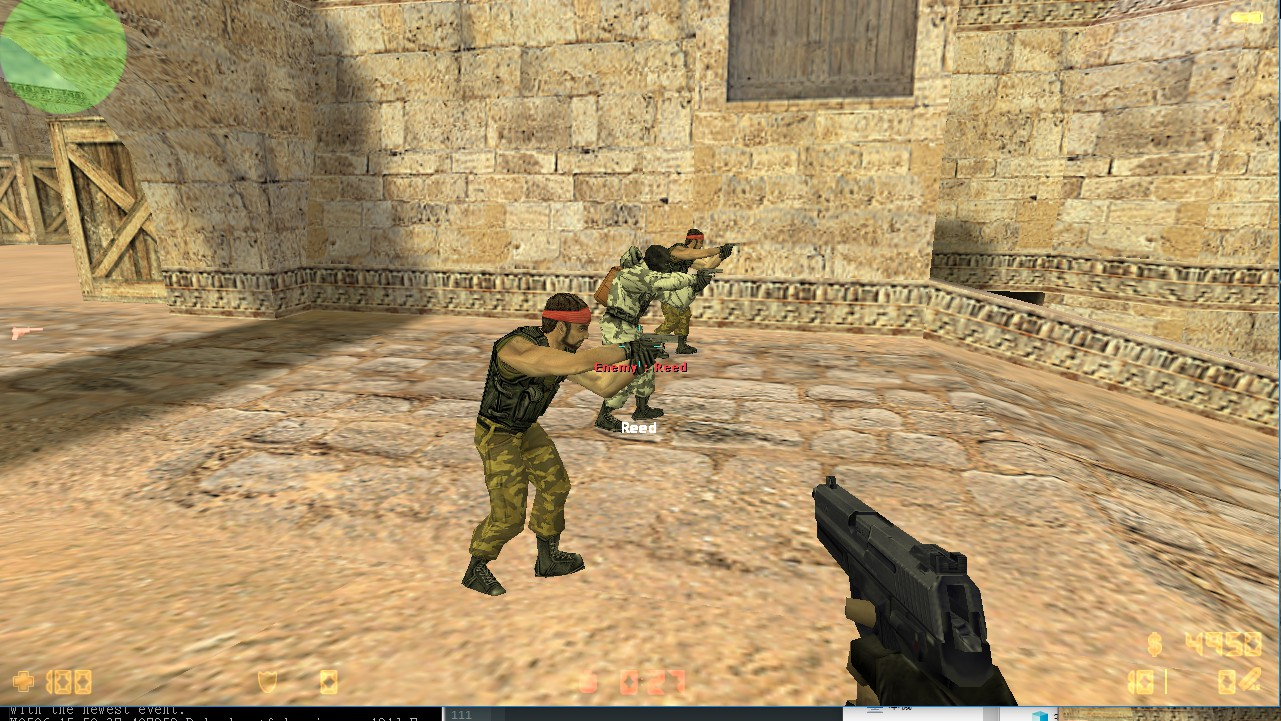person: (444, 288, 587, 601), (592, 235, 683, 439)
